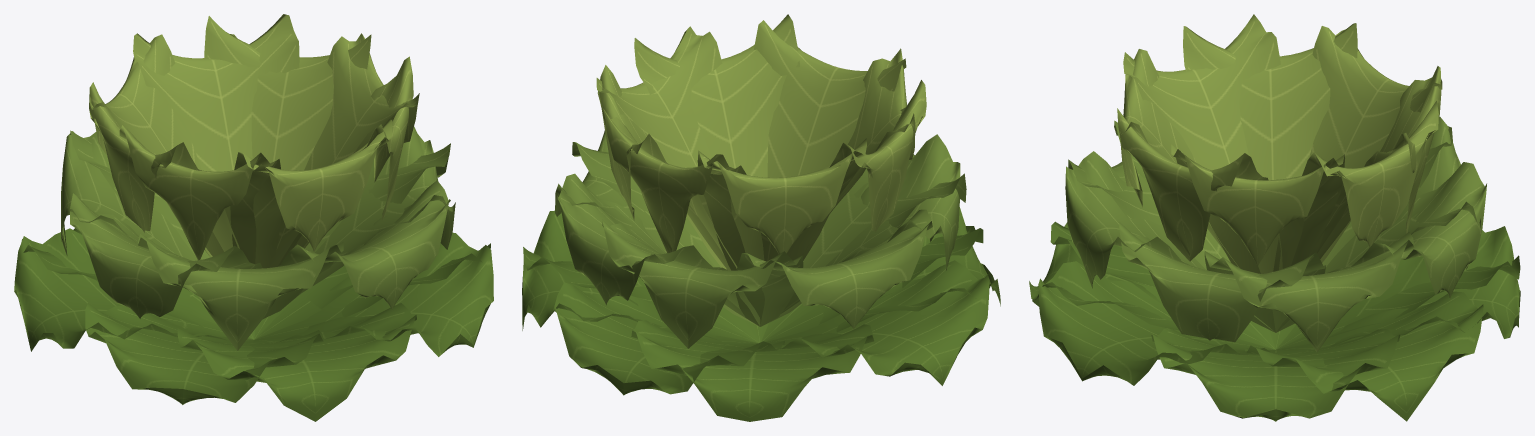
Rendered from props_p5__p5_lettuce.glb.
The picture shows the model from 3 angles, left to right: view 1: azimuth 30°, elevation 25°; view 2: azimuth 150°, elevation 25°; view 3: azimuth 270°, elevation 25°; orthographic projection. The views are drawn at different scales.
Visible parts, largest first — view 1: reference_static_surfaces (×3); view 2: reference_static_surfaces (×3); view 3: reference_static_surfaces (×3).
Part boxes in pixels (left/top/right/bottom): reference_static_surfaces (×3): left=14, top=14, right=493, bottom=421; reference_static_surfaces (×3): left=522, top=14, right=1000, bottom=421; reference_static_surfaces (×3): left=1029, top=14, right=1520, bottom=421.
Bounding box in the file's own units: 0.2527 × 0.152 × 0.2535.
3 materials, 3 textured.
